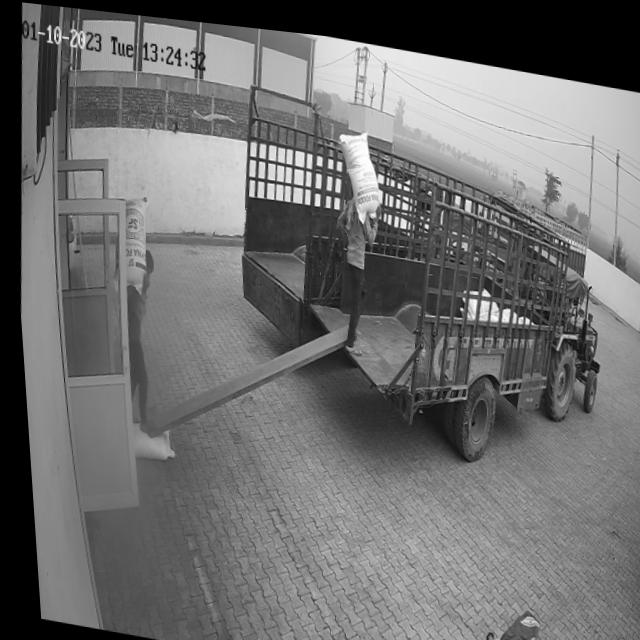sack: (330, 119, 384, 220), (115, 190, 150, 292), (123, 416, 170, 460)
